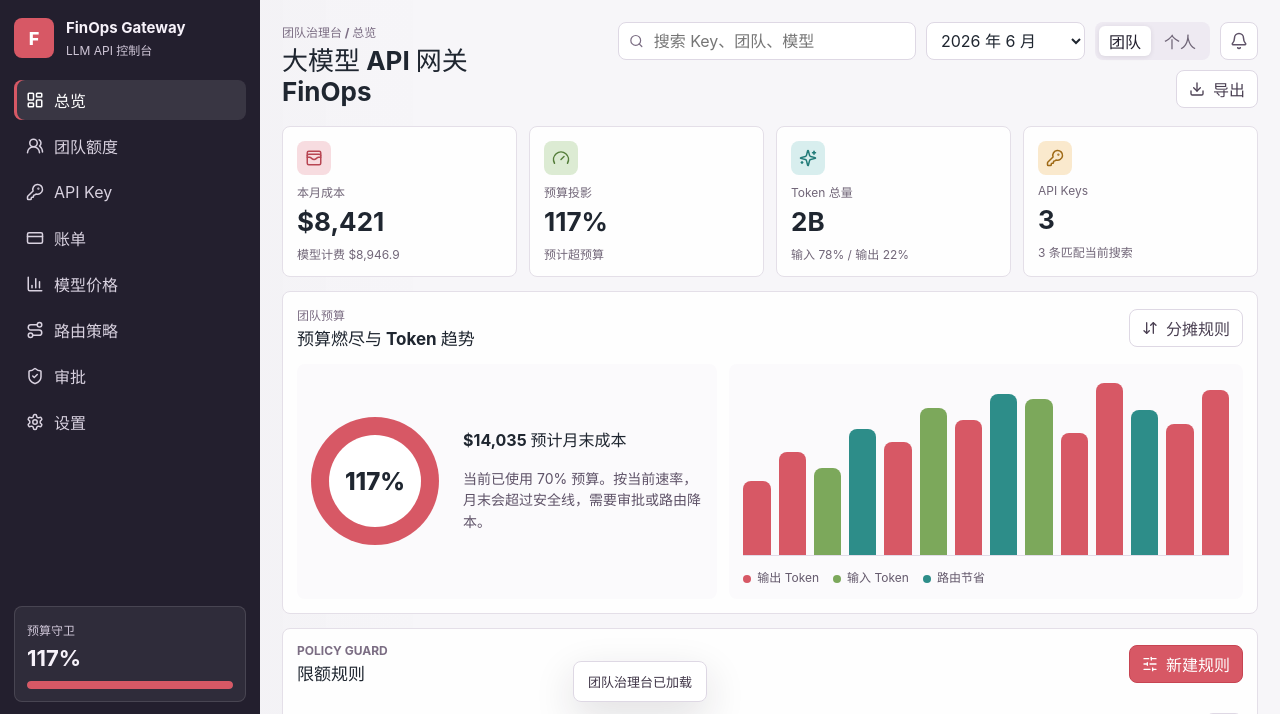
API key management page › shows a dedicated API Key page when selected from navigation
Click the button "API Key". click: (130, 192)
box: [14,172,246,212]
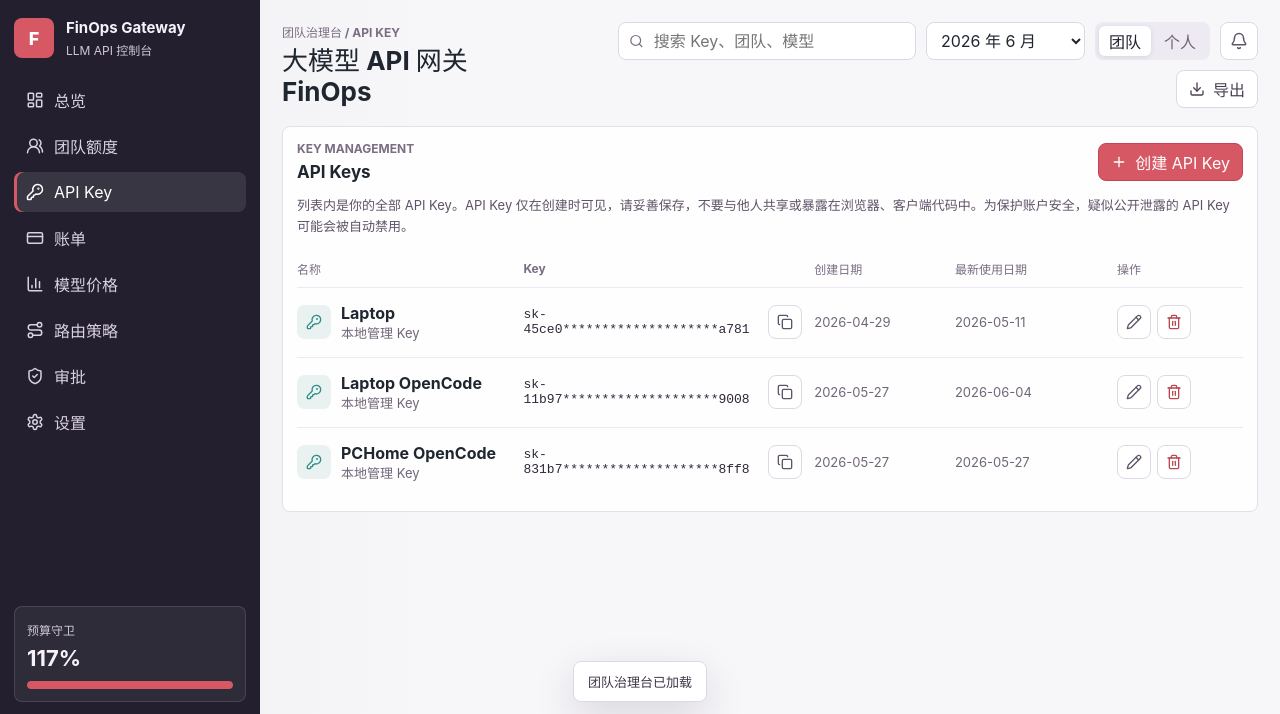
Expected: the heading "API Keys" is shown, [297,162,371,182]
Expected: the heading "预算燃尽与 Token 趋势" is gone
